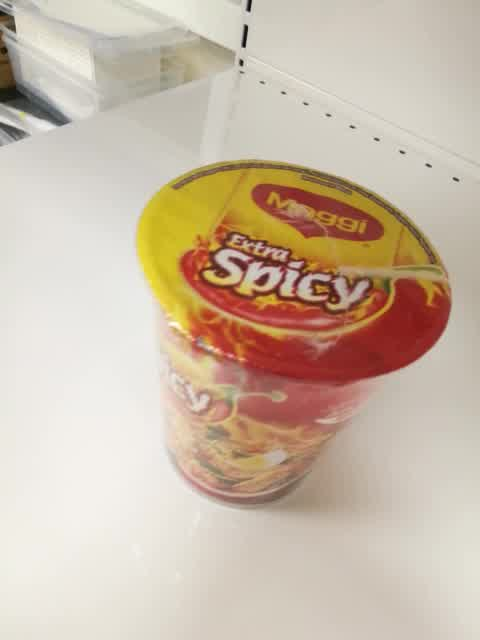maggi: (130, 157, 453, 511)
